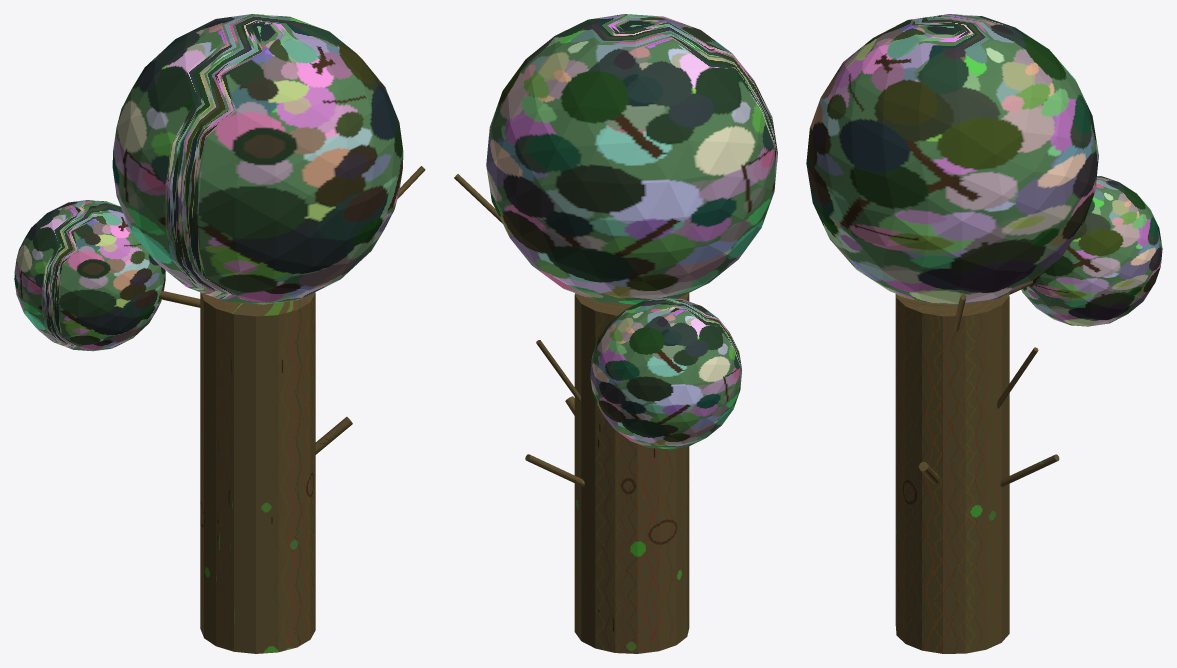
Rendered from tree_0.glb.
The picture shows the model from 3 angles, left to right: view 1: azimuth 30°, elevation 25°; view 2: azimuth 150°, elevation 25°; view 3: azimuth 270°, elevation 25°; orthographic projection.
Visible parts, largest first — view 1: tree_0_crown0, tree_0_trunk, tree_0_crown1; view 2: tree_0_crown0, tree_0_trunk, tree_0_crown1, tree_0_branch2; view 3: tree_0_crown0, tree_0_trunk, tree_0_crown1.
Boxes of the visible parts, x1,y1,x2,y2 form: tree_0_crown0: [112, 14, 403, 304]; tree_0_trunk: [200, 292, 315, 653]; tree_0_crown1: [14, 200, 165, 351]; tree_0_crown0: [486, 14, 777, 304]; tree_0_trunk: [574, 293, 689, 653]; tree_0_crown1: [590, 298, 741, 449]; tree_0_branch2: [525, 454, 584, 486]; tree_0_crown0: [806, 14, 1098, 304]; tree_0_trunk: [895, 293, 1009, 653]; tree_0_crown1: [1021, 176, 1162, 326].
Bounding box in the file's own units: 1.66 × 2.81 × 1.51.
8 materials, 8 textured.
